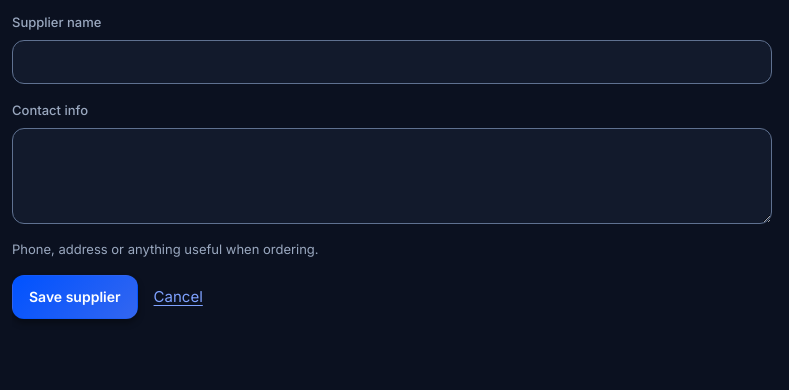
shows a validation error and blocks submit when name is empty
What coordinates should you click on to do the following:
click the button "Save supplier"
I would click on:
 (75, 297)
Its box is [12, 275, 138, 319].
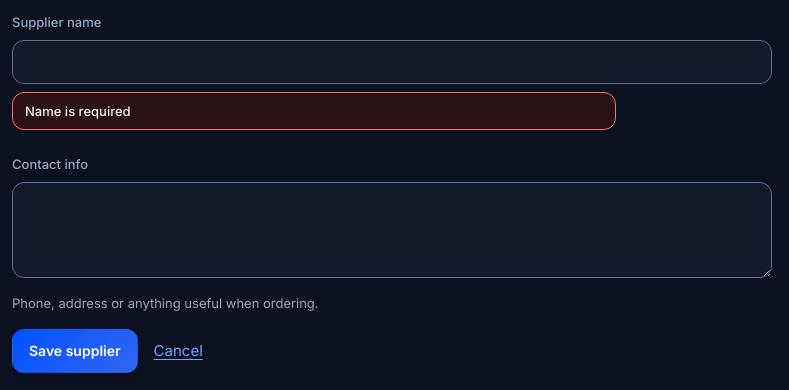
Expected: the text "Name is required" is shown, [12, 92, 616, 130]
